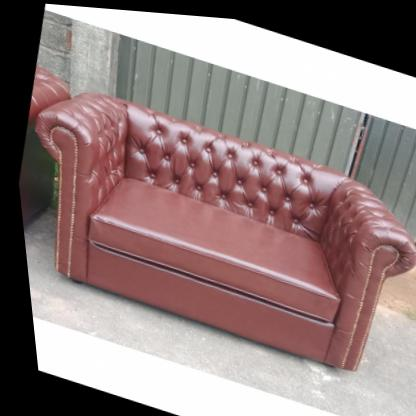Sofa: (6, 71, 416, 385)
